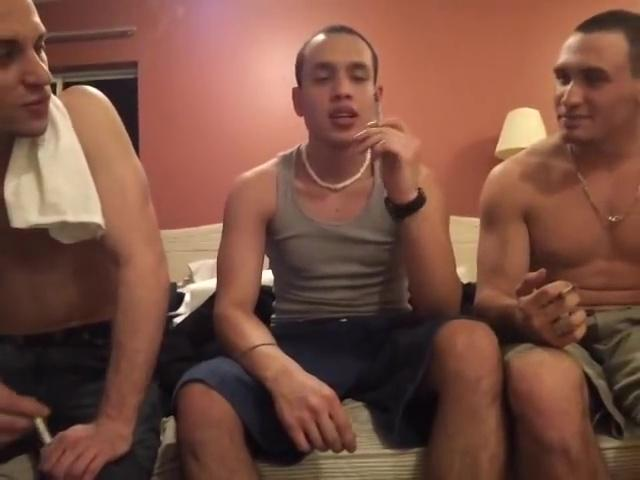cigarette: (31, 411, 53, 448), (372, 92, 385, 130), (558, 282, 583, 301)
